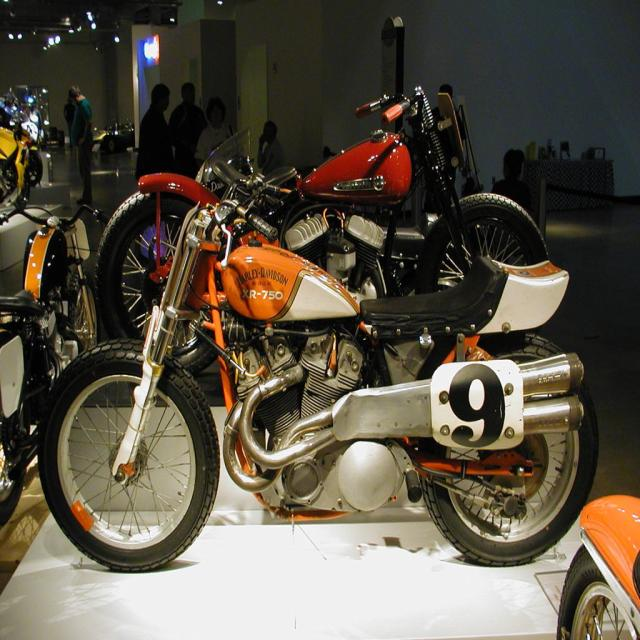Motorbikes: (36, 209, 588, 574)
